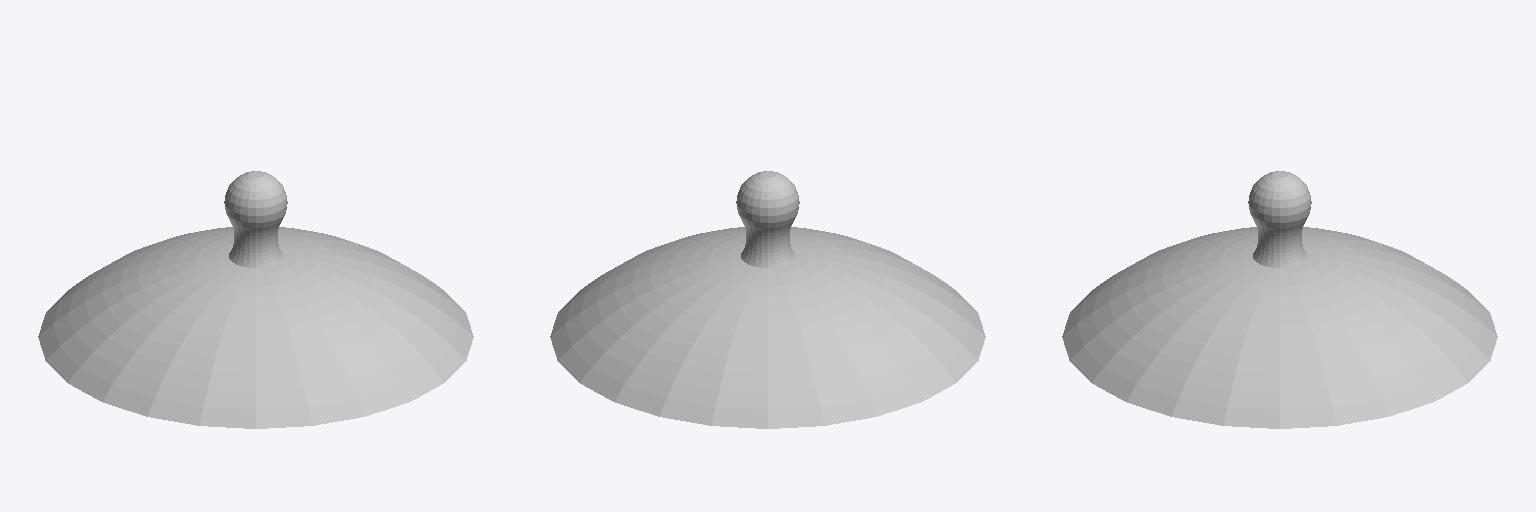
Rendered from original-2.obj.
The picture shows the model from 3 angles: view 1: azimuth 30°, elevation 25°; view 2: azimuth 150°, elevation 25°; view 3: azimuth 270°, elevation 25°; orthographic projection.
Parts seen in each view (by area): view 1: Group2/mesh2/mesh2-geometry#mesh2-geometry; view 2: Group2/mesh2/mesh2-geometry#mesh2-geometry; view 3: Group2/mesh2/mesh2-geometry#mesh2-geometry.
Part boxes in pixels (x1,y1,x2,y2): Group2/mesh2/mesh2-geometry#mesh2-geometry: (38,171,473,428); Group2/mesh2/mesh2-geometry#mesh2-geometry: (550,171,985,428); Group2/mesh2/mesh2-geometry#mesh2-geometry: (1062,171,1497,428).
Size of the model in its own units: 0.5046 by 0.2073 by 0.5046.